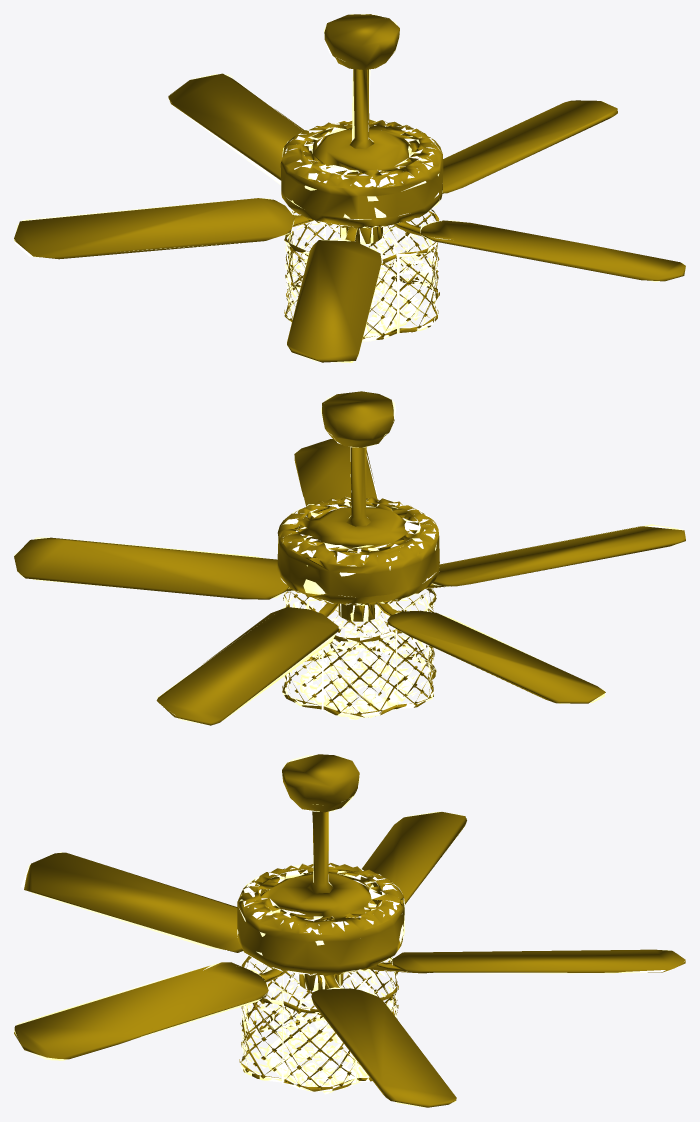
Rendered from ceiling_fan.glb.
The picture shows the model from 3 angles, top to bottom: view 1: azimuth 30°, elevation 25°; view 2: azimuth 150°, elevation 25°; view 3: azimuth 270°, elevation 25°; orthographic projection. The views are drawn at different scales.
Parts seen in each view (by area): view 1: Material2 (×2), Material3 (×4); view 2: Material2 (×2), Material3 (×4); view 3: Material2 (×2), Material3 (×4).
Part boxes in pixels (bbox=[...]): Material2 (×2): bbox=[14, 14, 685, 362]; Material3 (×4): bbox=[14, 14, 685, 362]; Material2 (×2): bbox=[14, 391, 685, 725]; Material3 (×4): bbox=[14, 395, 685, 724]; Material2 (×2): bbox=[14, 754, 685, 1107]; Material3 (×4): bbox=[14, 754, 685, 1107].
Size of the model in its own units: 52.04 by 26.48 by 50.29.
